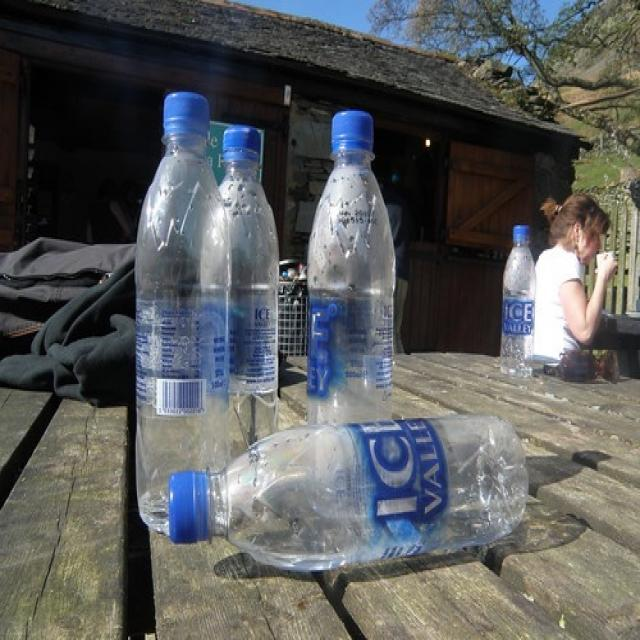plastic_bottle: (168, 416, 528, 571), (135, 93, 233, 538), (307, 110, 396, 426), (202, 126, 279, 449), (500, 225, 537, 378)
